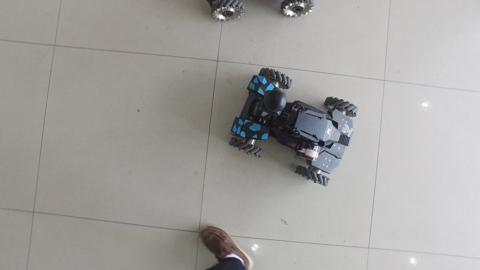chariot: (219, 62, 361, 193)
